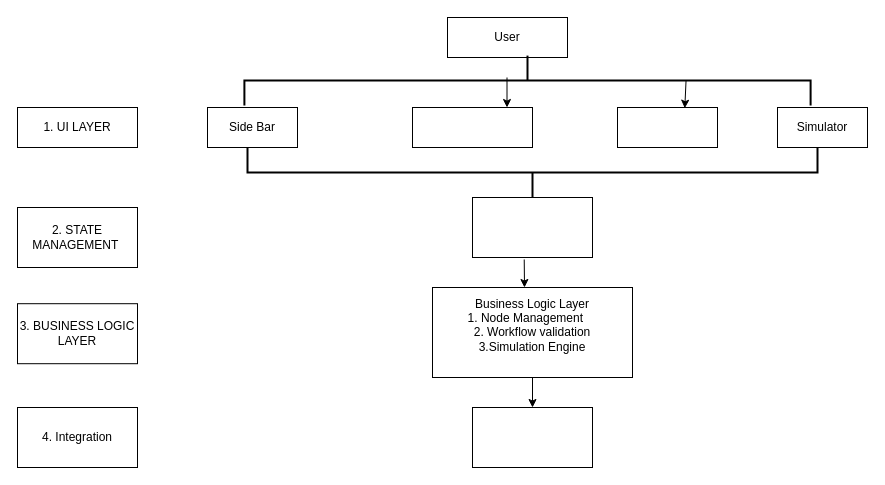
Image size: 885x485. Some labels were removed from this diagram. Each missing label, with the centre of its shape:
Canvas: pixel 472 127
Config Panel: pixel 667 127
Mock API: pixel 532 437
Zustard Store: pixel 532 227
